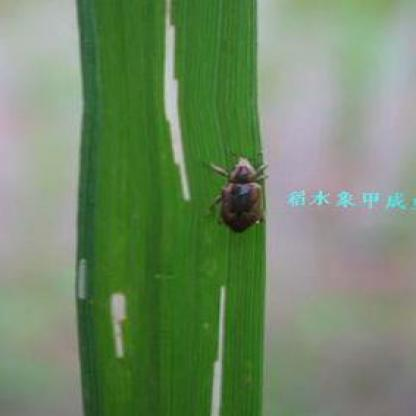rice-bug: (211, 154, 275, 236)
